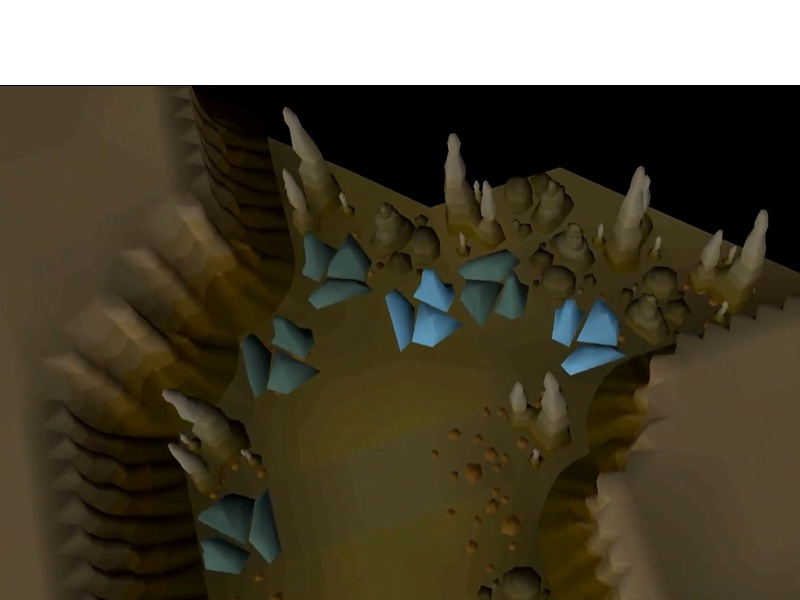adamant: (194, 488, 285, 577), (237, 311, 322, 401), (297, 228, 376, 309), (457, 247, 533, 331)
rune: (383, 268, 465, 353), (548, 295, 630, 379)
